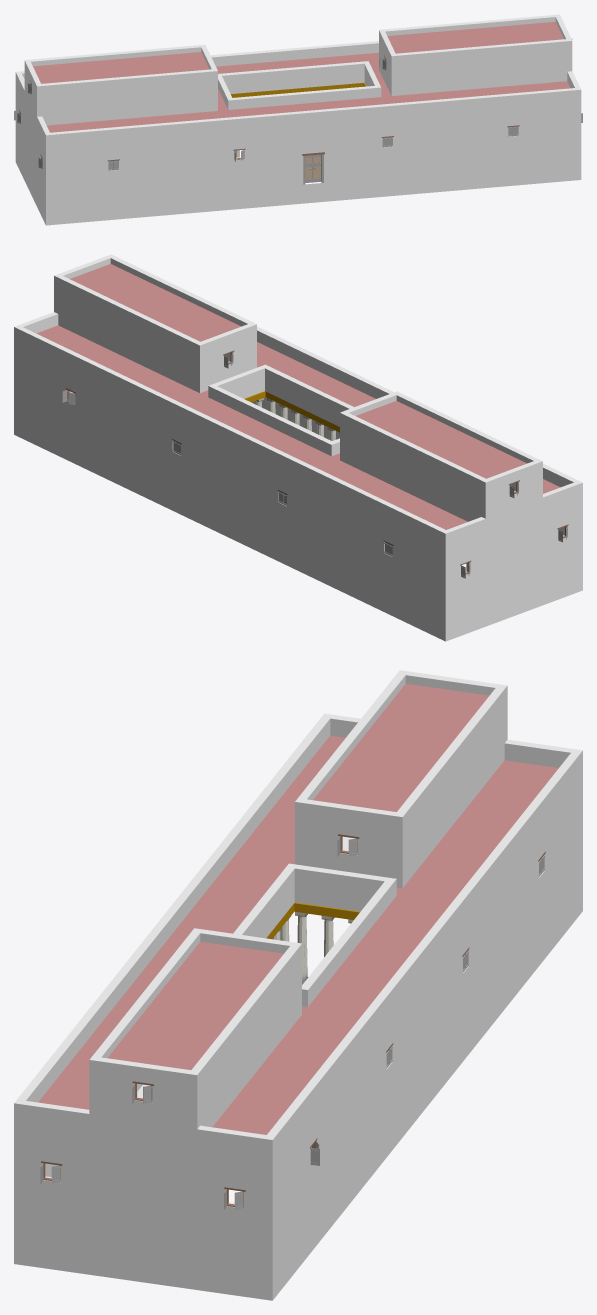
The model's file is LOD_Block_3_64.glb.
The picture shows the model from 3 angles, top to bottom: view 1: azimuth 30°, elevation 25°; view 2: azimuth 150°, elevation 25°; view 3: azimuth 270°, elevation 25°; orthographic projection. The views are drawn at different scales.
Visible parts, largest first — view 1: _1.4817; view 2: _1.4817; view 3: _1.4817.
Part boxes in pixels (left/top/right/bottom): _1.4817: left=14, top=14, right=582, bottom=225; _1.4817: left=14, top=254, right=582, bottom=641; _1.4817: left=14, top=670, right=582, bottom=1300.
Bounding box in the file's own units: 53.87 × 12.65 × 30.37.
Materials: 21 (2 with a texture image).
